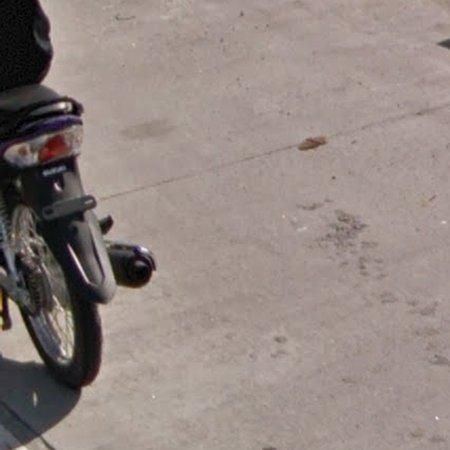motorcycles: (0, 84, 155, 388)
